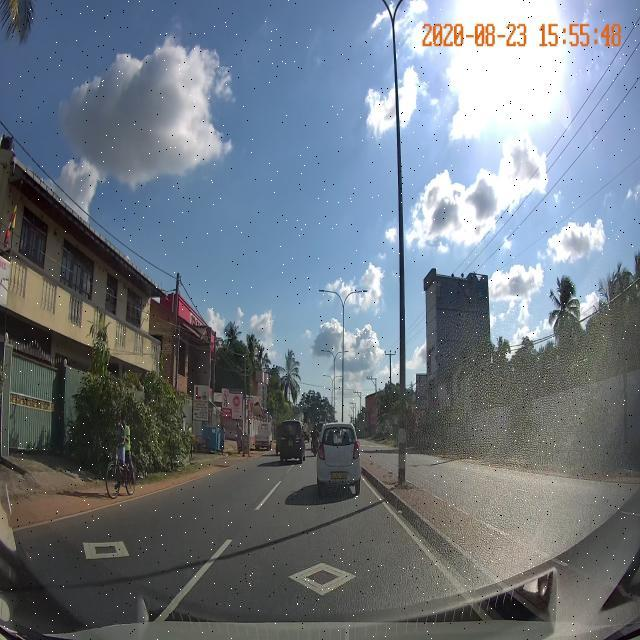diamond: (171, 561, 475, 604)
